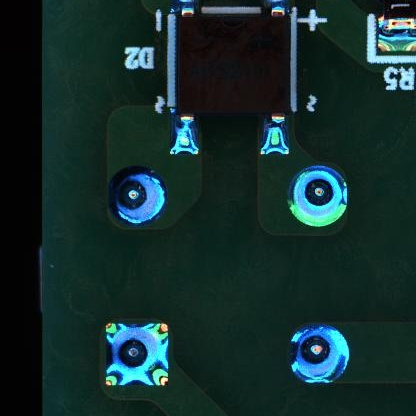spot: (105, 164, 170, 228), (106, 323, 166, 385), (289, 326, 349, 386), (289, 165, 346, 226)
